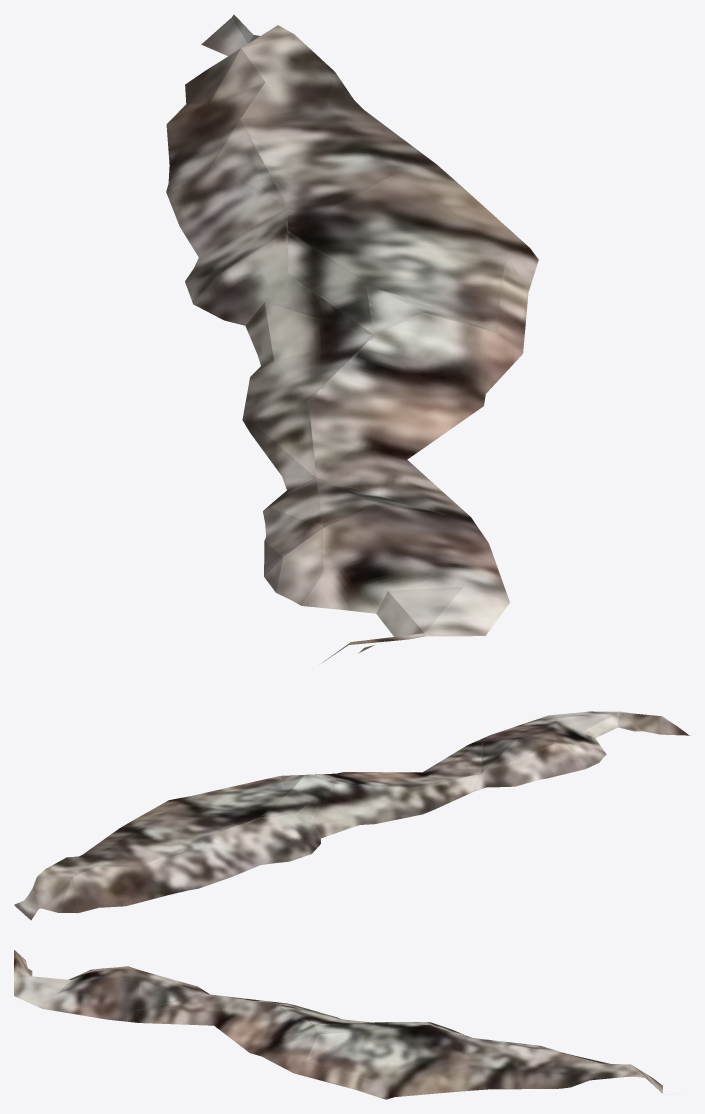
3 renders of one model, top to bottom at view 1: azimuth 30°, elevation 25°; view 2: azimuth 150°, elevation 25°; view 3: azimuth 270°, elevation 25°, orthographic. The views are drawn at different scales.
Bounding box in the file's own units: 0.8814 × 0.0647 × 1.67.
Materials: 1 (1 with a texture image).
